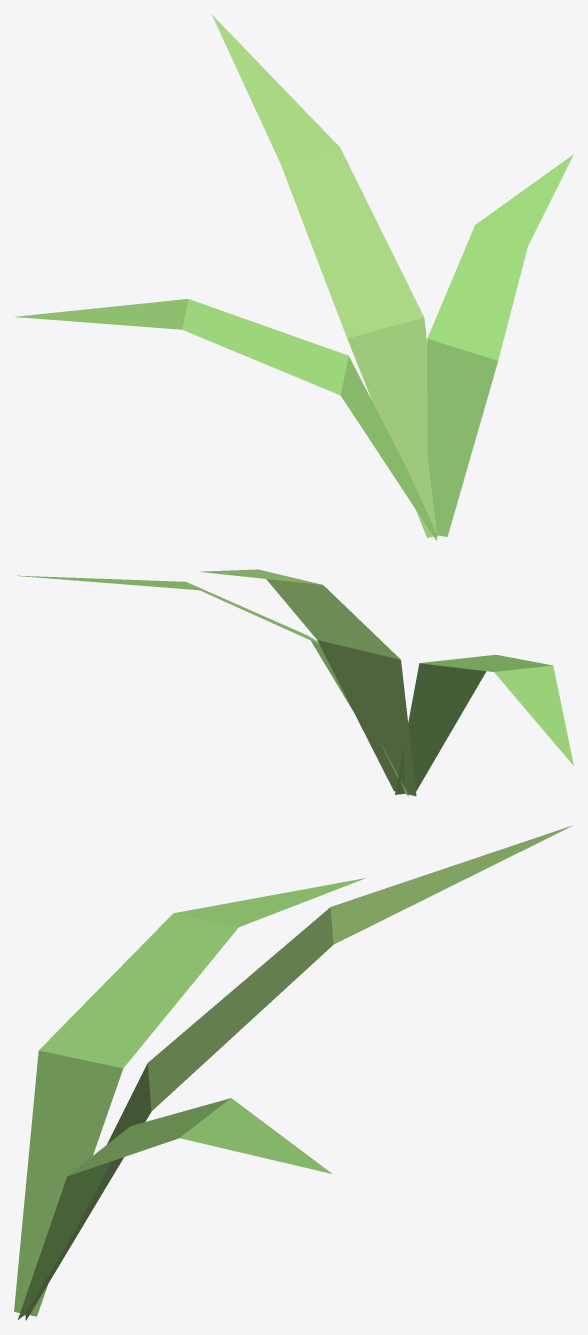
The model's file is Plant_e_TwoS_03.fbx.
The picture shows the model from 3 angles, top to bottom: view 1: azimuth 30°, elevation 25°; view 2: azimuth 150°, elevation 25°; view 3: azimuth 270°, elevation 25°; orthographic projection. The views are drawn at different scales.
Visible parts, largest first — view 1: Plant_e_TwoS_03; view 2: Plant_e_TwoS_03; view 3: Plant_e_TwoS_03.
Boxes of the visible parts, x1,y1,x2,y2 form: Plant_e_TwoS_03: (14,14,573,540); Plant_e_TwoS_03: (17,569,573,796); Plant_e_TwoS_03: (14,825,572,1320).
Bounding box in the file's own units: 0.6634 × 0.4303 × 0.4534.
